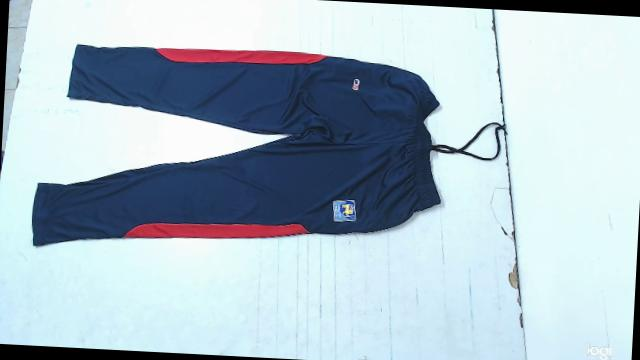new-garment: (32, 44, 439, 245)
